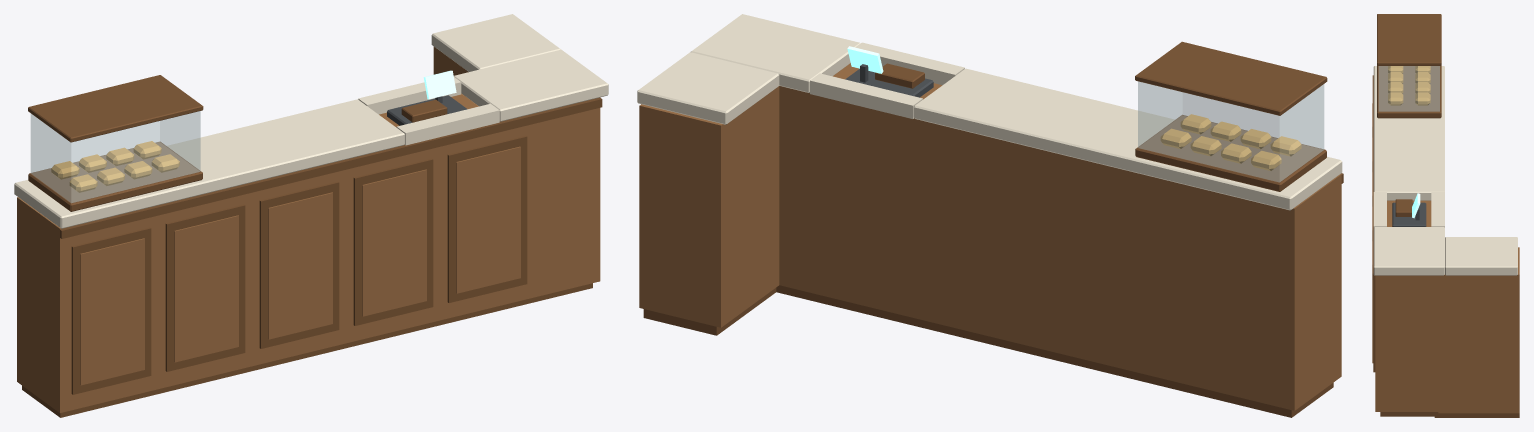
File: shopfront-counter.glb
The picture shows the model from 3 angles, left to right: view 1: azimuth 30°, elevation 25°; view 2: azimuth 150°, elevation 25°; view 3: azimuth 270°, elevation 25°; orthographic projection. The views are drawn at different scales.
Visible parts, largest first — view 1: shopfront-counter; view 2: shopfront-counter; view 3: shopfront-counter.
Part boxes in pixels (box(x1,y1,x2,y2)): shopfront-counter: box(14, 14, 608, 417); shopfront-counter: box(637, 14, 1343, 417); shopfront-counter: box(1372, 14, 1519, 417).
Size of the model in its own units: 1.4 by 0.682 by 0.434.
